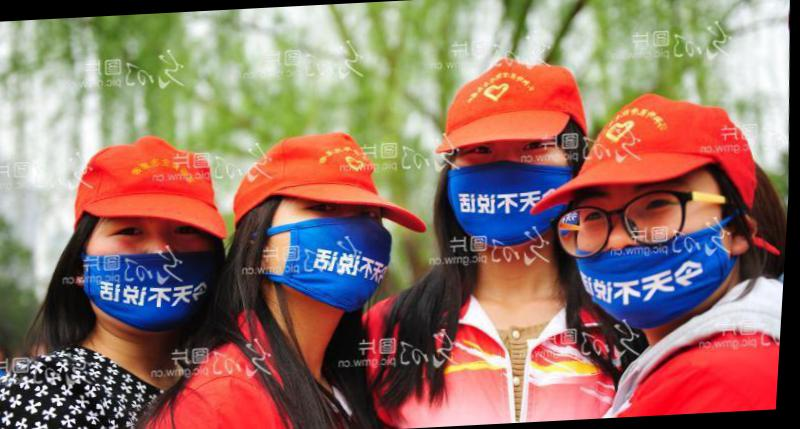OK: (272, 188, 403, 313), (444, 129, 570, 249)
WRONG: (564, 163, 741, 333), (96, 208, 229, 335)
